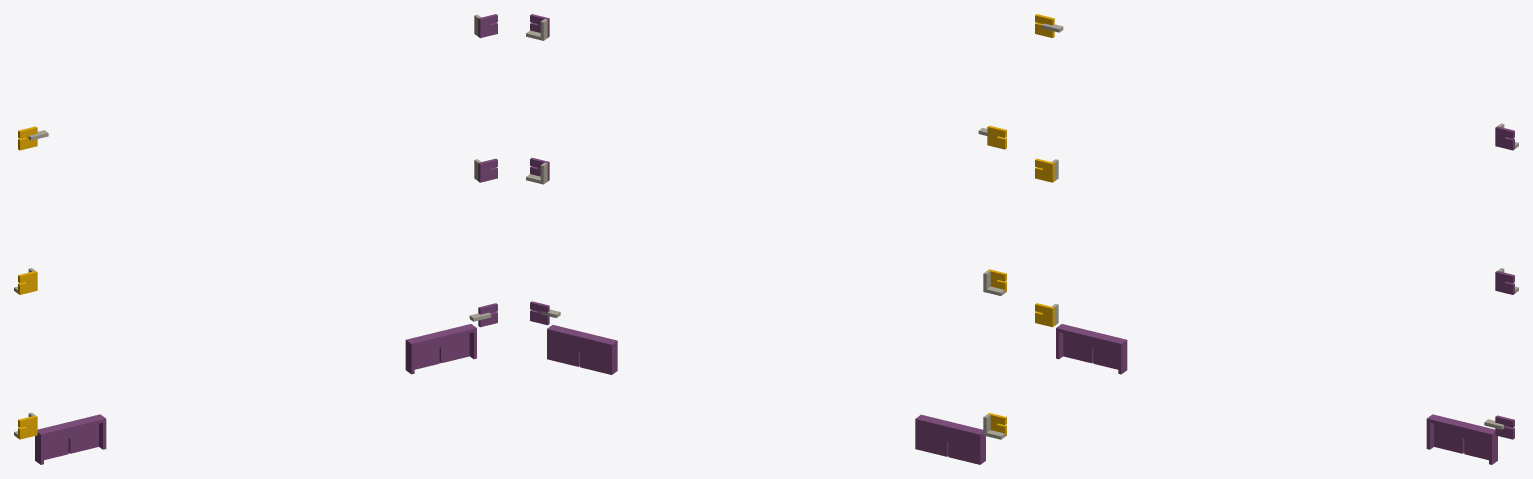
The model's file is externalTable.dae.
3 views of the same model, side by side, from view 1: azimuth 30°, elevation 25°; view 2: azimuth 150°, elevation 25°; view 3: azimuth 330°, elevation 25° (orthographic).
Visible parts, largest first — view 1: 5cb98f0f505c701592c0009e (×4); view 2: 5cb98f0f505c701592c0009e (×2); view 3: 5cb98f0f505c701592c0009e (×4).
Part boxes in pixels (x1=…): 5cb98f0f505c701592c0009e (×4): x1=35, y1=324, x2=476, y2=461; 5cb98f0f505c701592c0009e (×2): x1=547, y1=328, x2=981, y2=464; 5cb98f0f505c701592c0009e (×4): x1=1056, y1=324, x2=1497, y2=461.
Bounding box in the file's own units: 3.29 × 0.096 × 2.22.
